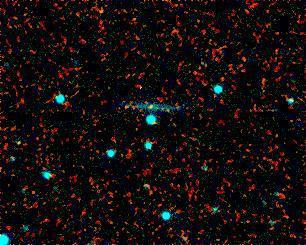star: (85, 0, 115, 21)
